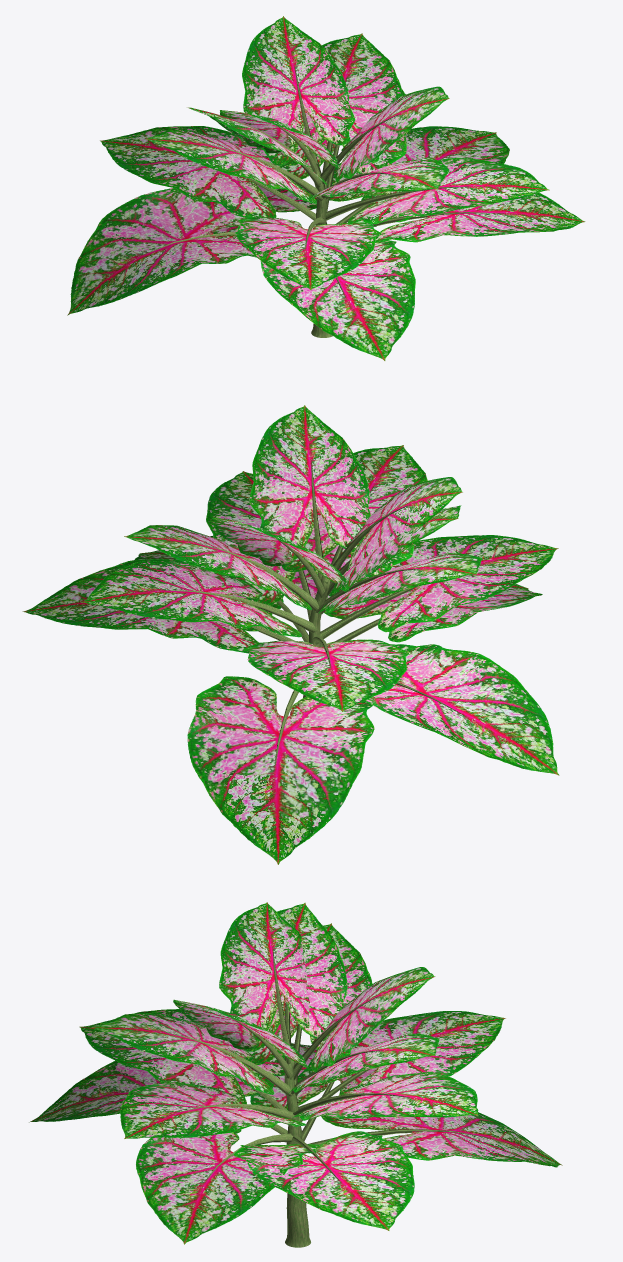
File: toxicplant.fbx
The picture shows the model from 3 angles, top to bottom: view 1: azimuth 30°, elevation 25°; view 2: azimuth 150°, elevation 25°; view 3: azimuth 270°, elevation 25°; orthographic projection. The views are drawn at different scales.
Parts seen in each view (by area): view 1: Tree_1, Tree_0; view 2: Tree_1, Tree_0; view 3: Tree_1, Tree_0.
Boxes of the visible parts, x1,y1,x2,y2 form: Tree_1: (67,16,585,360); Tree_0: (139,65,503,337); Tree_1: (22,405,559,864); Tree_0: (160,460,480,774); Tree_1: (29,902,562,1244); Tree_0: (119,947,487,1247).
Bounding box in the file's own units: 240 × 124 × 236.
Materials: 2 (2 with a texture image).
